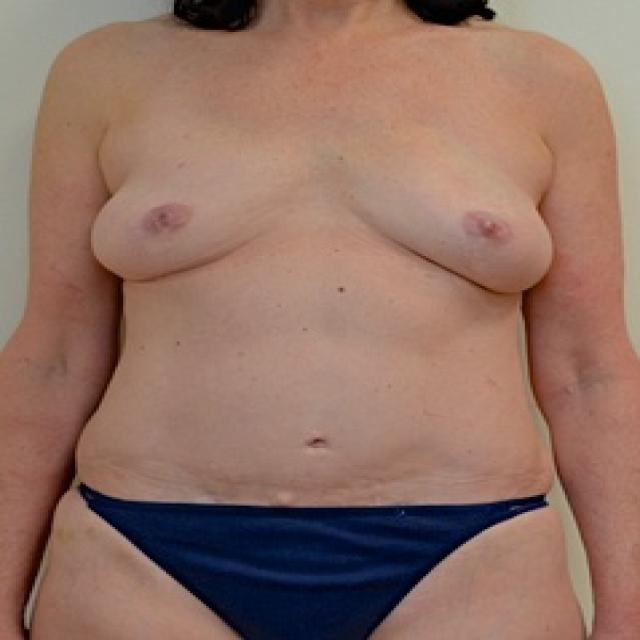Seno ileso: (320, 110, 564, 312), (81, 110, 313, 312)
